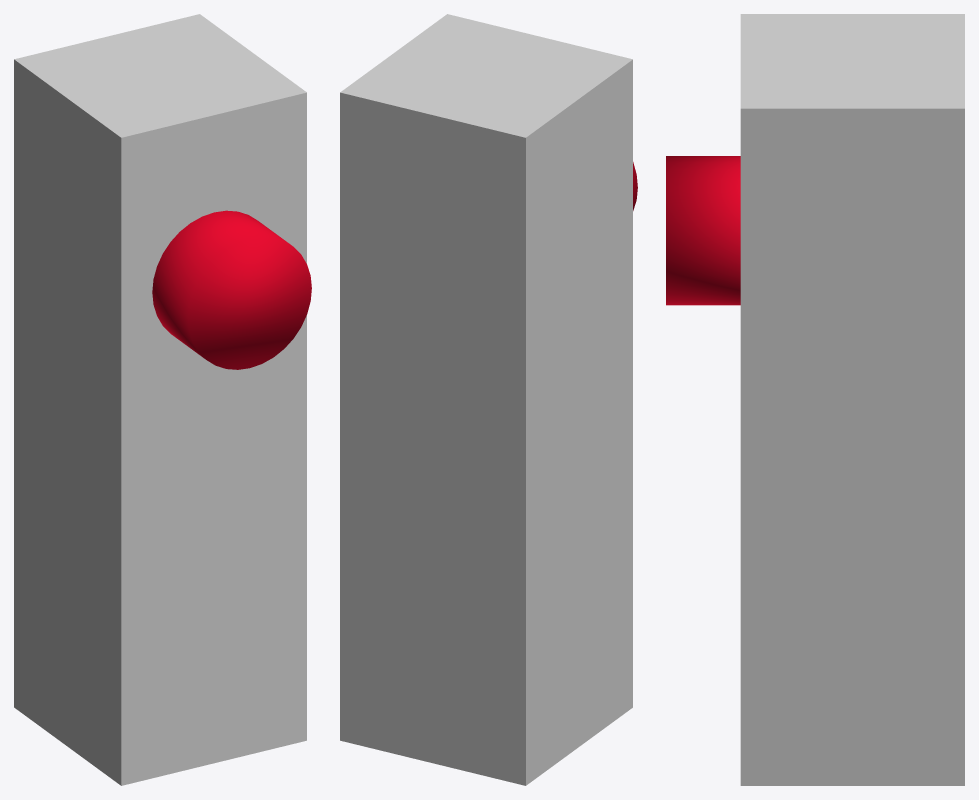
The model's file is car_call_button.glb.
The picture shows the model from 3 angles, left to right: view 1: azimuth 30°, elevation 25°; view 2: azimuth 150°, elevation 25°; view 3: azimuth 270°, elevation 25°; orthographic projection. The views are drawn at different scales.
Visible parts, largest first — view 1: Cylinder; view 2: Cylinder; view 3: Cylinder.
Boxes of the visible parts, left/top/right/bottom form: Cylinder: left=14, top=14, right=311, bottom=785; Cylinder: left=340, top=14, right=637, bottom=785; Cylinder: left=666, top=14, right=964, bottom=785.
Size of the model in its own units: 0.6 by 2 by 0.8.
